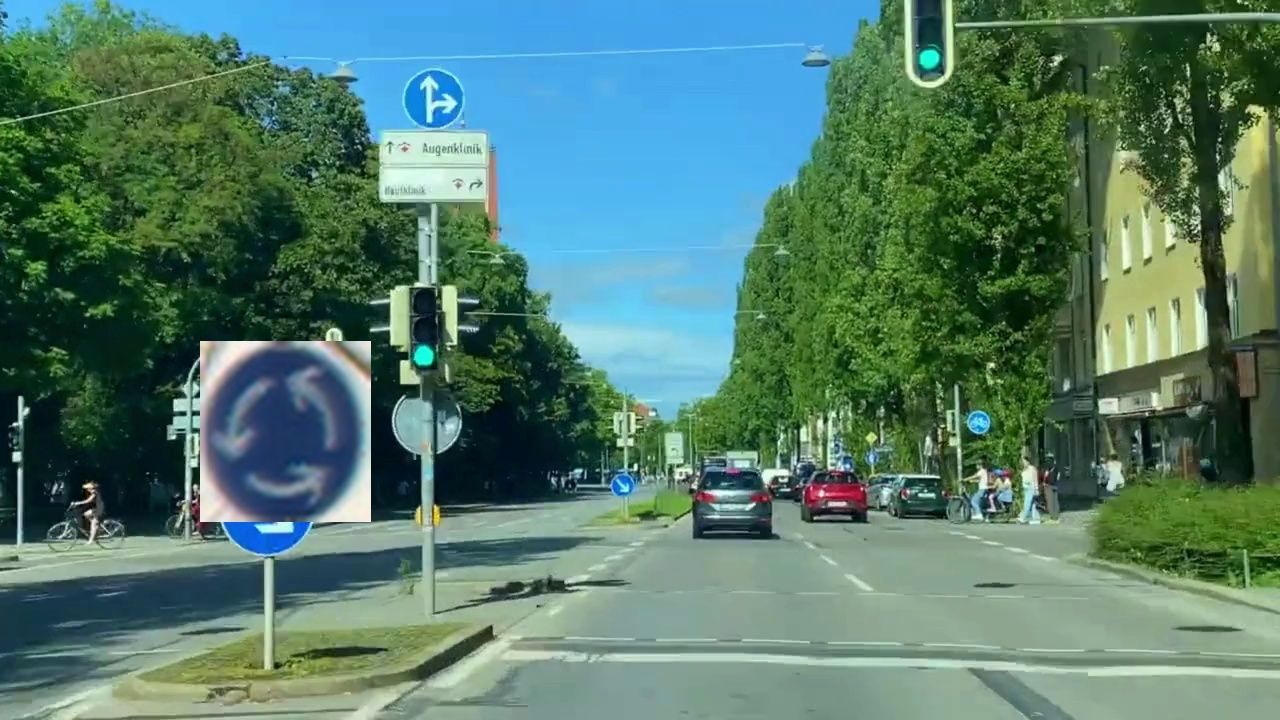Roundabout: (200, 341, 371, 522)
